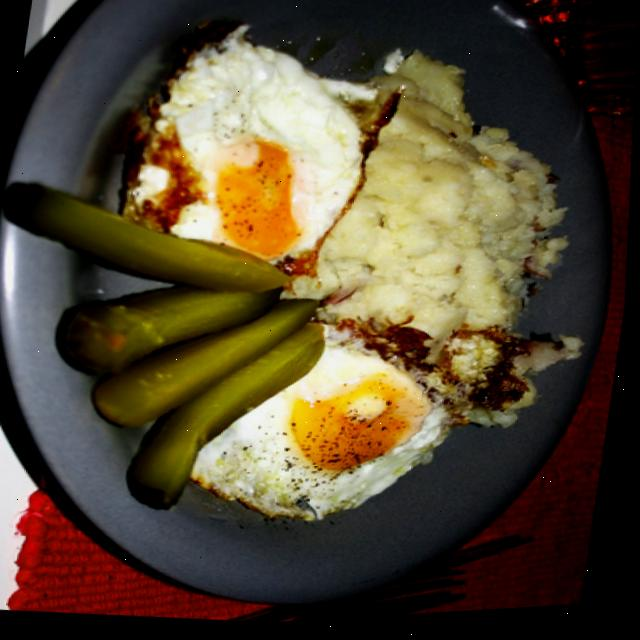鸡蛋料理: (135, 44, 383, 279), (219, 364, 467, 522)
